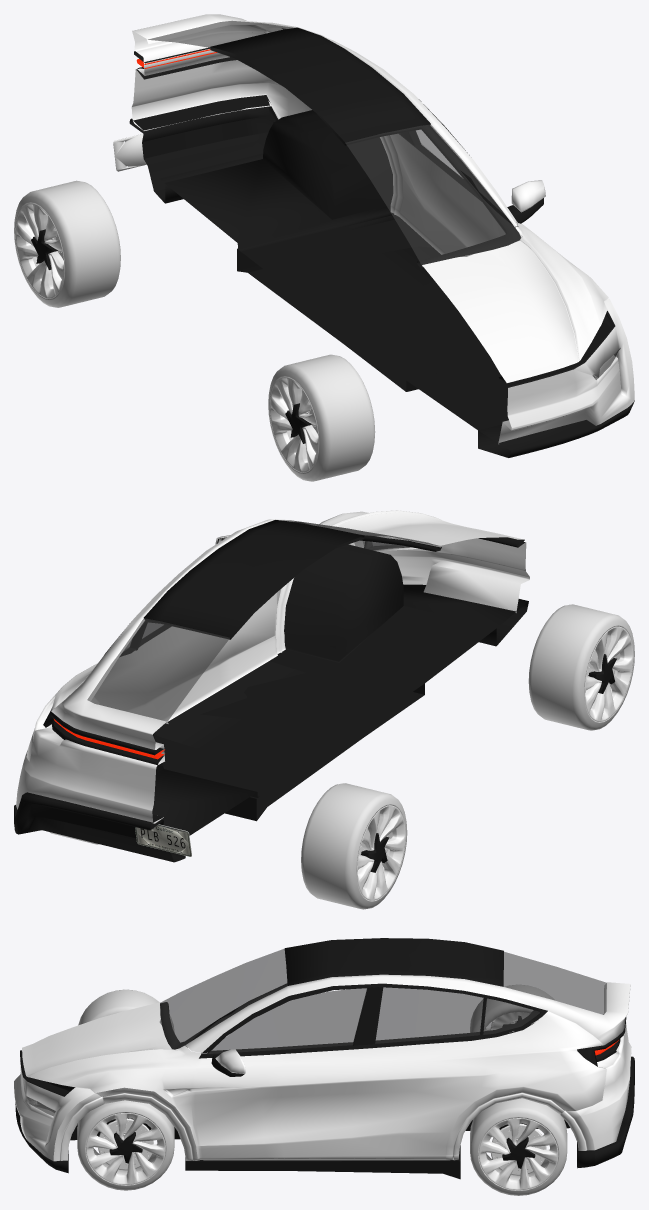
Rendered from Tesla+Model+Y+2025.glb.
3 views of the same model, one above another, from view 1: azimuth 30°, elevation 25°; view 2: azimuth 150°, elevation 25°; view 3: azimuth 270°, elevation 25° (orthographic). The views are drawn at different scales.
Parts seen in each view (by area): view 1: Plane.011, Cube, Plane.009, Plane.008, Cylinder.002, Cylinder.003, Circle.005, Circle.007, Plane.005, Québec Licence plate PL.002, basemesh.056, Plane.010; view 2: Plane.011, Cube, Plane.009, Plane.005, Cylinder.002, Cylinder.003, Circle.005, Circle.007, Québec Licence plate PL.002, Plane.007; view 3: Plane.011, Plane.004, Plane.009, Plane.008, Plane.010, Plane.005, Cylinder, Cube, Circle, Circle.002, Cylinder.001, Cylinder.003 (+7 smaller).
Part boxes in pixels (<box>): Plane.011: <box>129,14,634,457</box>; Cube: <box>237,218,491,391</box>; Plane.009: <box>210,27,520,269</box>; Plane.008: <box>345,124,522,267</box>; Cylinder.002: <box>14,180,120,307</box>; Cylinder.003: <box>268,354,375,481</box>; Circle.005: <box>15,203,64,298</box>; Circle.007: <box>270,377,318,472</box>; Plane.005: <box>148,21,294,47</box>; Québec Licence plate PL.002: <box>113,133,146,171</box>; basemesh.056: <box>511,180,545,212</box>; Plane.010: <box>282,28,518,226</box>; Plane.011: <box>14,510,529,862</box>; Cube: <box>153,649,424,821</box>; Plane.009: <box>143,520,441,639</box>; Plane.005: <box>87,618,229,722</box>; Cylinder.002: <box>301,783,407,909</box>; Cylinder.003: <box>528,604,634,730</box>; Circle.005: <box>357,805,405,900</box>; Circle.007: <box>584,626,633,721</box>; Québec Licence plate PL.002: <box>135,824,191,856</box>; Plane.007: <box>43,708,164,755</box>; Plane.011: <box>14,974,634,1173</box>; Plane.004: <box>208,987,540,1053</box>; Plane.009: <box>160,938,503,1049</box>; Plane.008: <box>160,949,287,1049</box>; Plane.010: <box>199,983,547,1058</box>; Plane.005: <box>503,952,606,1014</box>; Cylinder: <box>470,1098,567,1195</box>; Cube: <box>185,1145,460,1179</box>; Circle: <box>478,1118,558,1190</box>; Circle.002: <box>86,1113,165,1184</box>; Cylinder.001: <box>77,1100,174,1190</box>; Cylinder.003: <box>78,989,174,1032</box>.
Size of the model in its own units: 2.31 by 1.59 by 4.56.
Materials: 15 (3 with a texture image).
